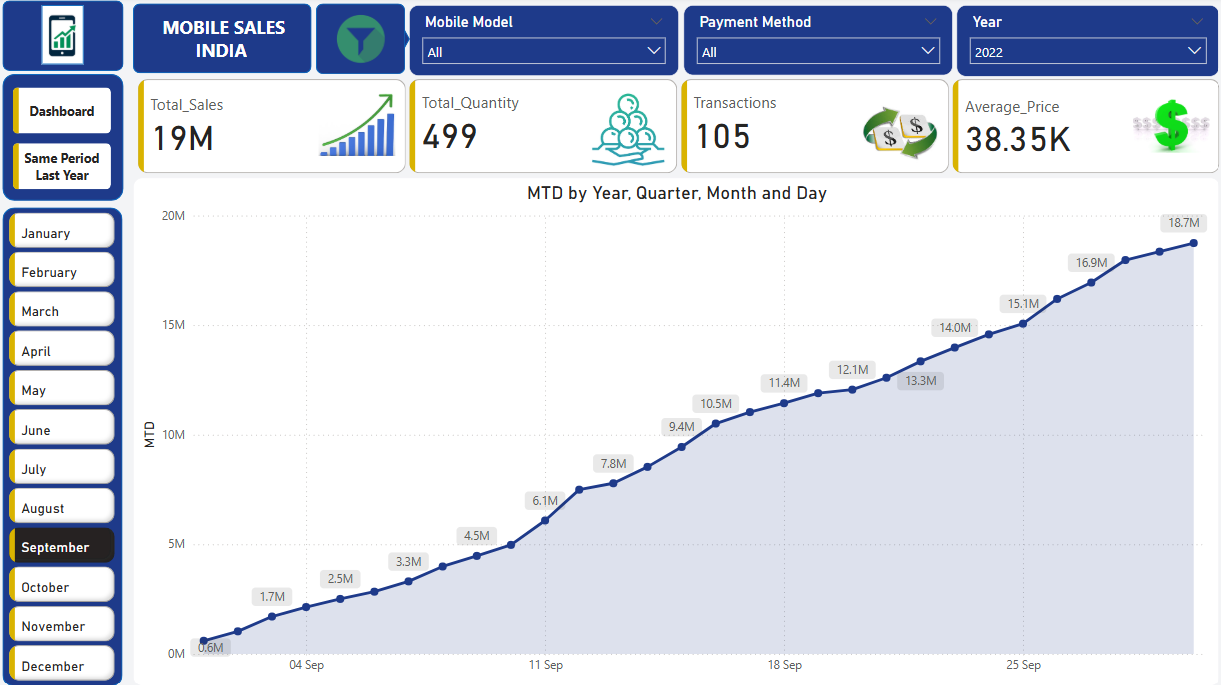

The dashboard page shown, as its layout file describes it:
{"tool":"powerbi","page":{"name":"MTD Report","canvas":[1280,720],"ordinal":1},"visuals":[{"type":"shape","box":[4,4,126,73.3],"z":0},{"type":"shape","box":[44.7,8.7,44,62],"z":1000},{"type":"image","box":[15.3,0,102.7,82],"z":2000},{"type":"shape","box":[4,82,126,132],"z":3000},{"type":"shape","box":[5,220,125,500],"z":4000},{"type":"advancedSlicerVisual","fields":{"Values":["Custom_Calender.Date.Variation.Date Hierarchy.Month"]},"box":[6.3,220.4,120.4,500.2],"z":5000},{"type":"cardVisual","fields":{"Data":["Mobile_Sales.Total_Sales","Mobile_Sales.Total_Qty","Mobile_Sales.Transactions","Mobile_Sales.Avg_Price"]},"box":[140,82,1140,108],"z":6000},{"type":"slicer","title":"hello","fields":{"Values":["Mobile_Sales.Mobile Model"]},"box":[428.9,8.9,281.1,73.7],"z":7000},{"type":"slicer","title":"hello","fields":{"Values":["Custom_Calender.Date.Variation.Date Hierarchy.Year"]},"box":[999.3,8.7,274,74.7],"z":8000},{"type":"slicer","title":"hello","fields":{"Values":["Mobile_Sales.Payment Method"]},"box":[714,8.7,280.7,73.3],"z":9000},{"type":"shape","box":[412.4,30,16.5,30],"z":10000},{"type":"shape","box":[331.4,8.6,92.9,73.6],"z":11000},{"type":"image","box":[340.7,5,74.3,80],"z":12000},{"type":"shape","box":[140.7,8,186,72.7],"z":13000},{"type":"textbox","box":[151,14,167,61],"z":14000},{"type":"lineChart","fields":{"Category":["Custom_Calender.Date.Variation.Date Hierarchy.Year","Custom_Calender.Date.Variation.Date Hierarchy.Quarter","Custom_Calender.Date.Variation.Date Hierarchy.Month","Custom_Calender.Date.Variation.Date Hierarchy.Day"],"Y":["Mobile_Sales.MTD"]},"box":[140.6,189.6,1132.6,530.7],"z":15000},{"type":"pageNavigator","box":[15.8,94.8,102.7,107.4],"z":15001}]}

Visuals, with their boxes in screenshot pixels (x1, y1, x2, y2), scaled from the page's 1280x720 canvas onto the 1221x685 screenshot:
shape: region(4, 4, 124, 74)
shape: region(43, 8, 85, 67)
image: region(15, 0, 113, 78)
shape: region(4, 78, 124, 204)
shape: region(5, 209, 124, 684)
advancedSlicerVisual - Custom_Calender.Date.Variation.Date Hierarchy.Month: region(6, 210, 121, 684)
cardVisual - Mobile_Sales.Total_Sales x Mobile_Sales.Total_Qty: region(134, 78, 1220, 181)
"hello" slicer: region(409, 8, 677, 79)
"hello" slicer: region(953, 8, 1215, 79)
"hello" slicer: region(681, 8, 949, 78)
shape: region(393, 29, 409, 57)
shape: region(316, 8, 405, 78)
image: region(325, 5, 396, 81)
shape: region(134, 8, 312, 77)
textbox: region(144, 13, 303, 71)
lineChart - Custom_Calender.Date.Variation.Date Hierarchy.Year x Custom_Calender.Date.Variation.Date Hierarchy.Quarter: region(134, 180, 1215, 684)
pageNavigator: region(15, 90, 113, 192)
